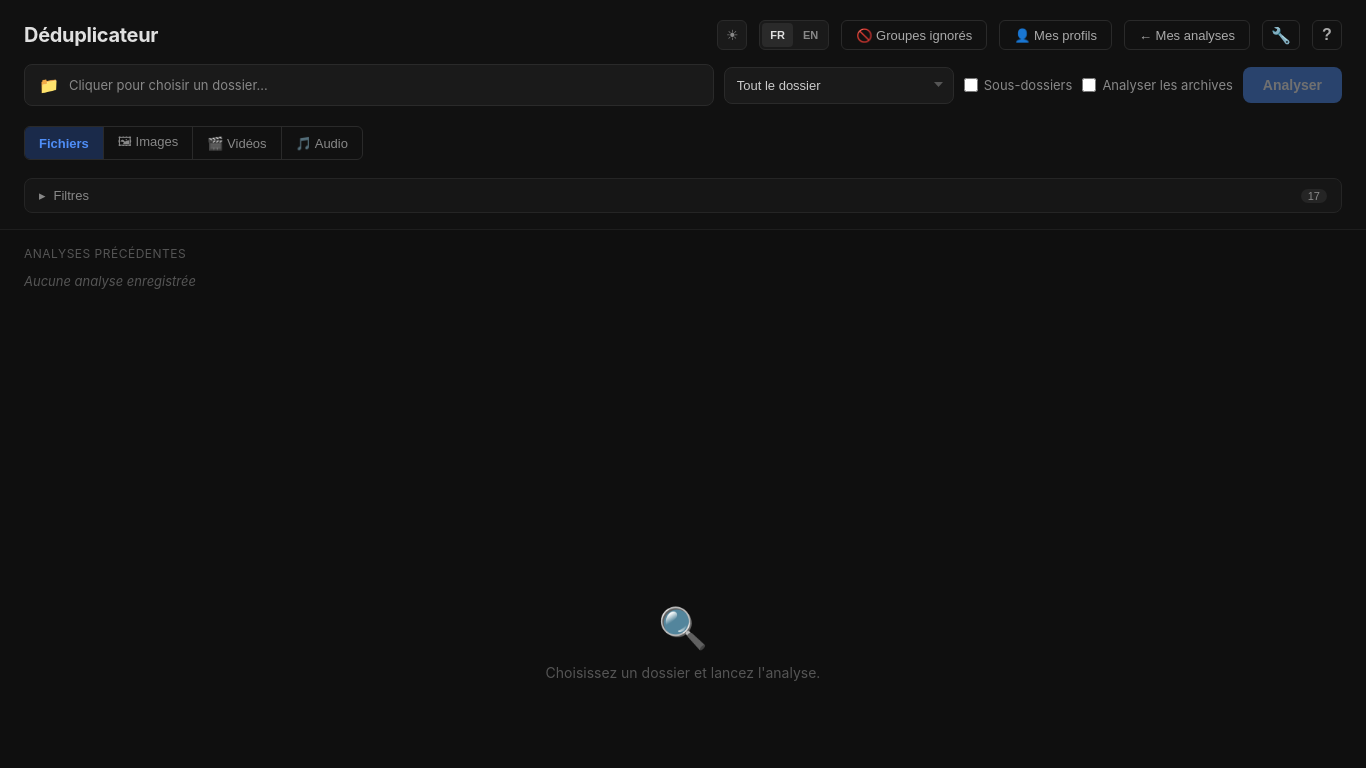
Test case: E - pagination › affiche le bouton 'Afficher plus' quand has_more est true
Click the text "Cliquer pour choisir un dossier…" at [168, 85], box [69,77,268,93]
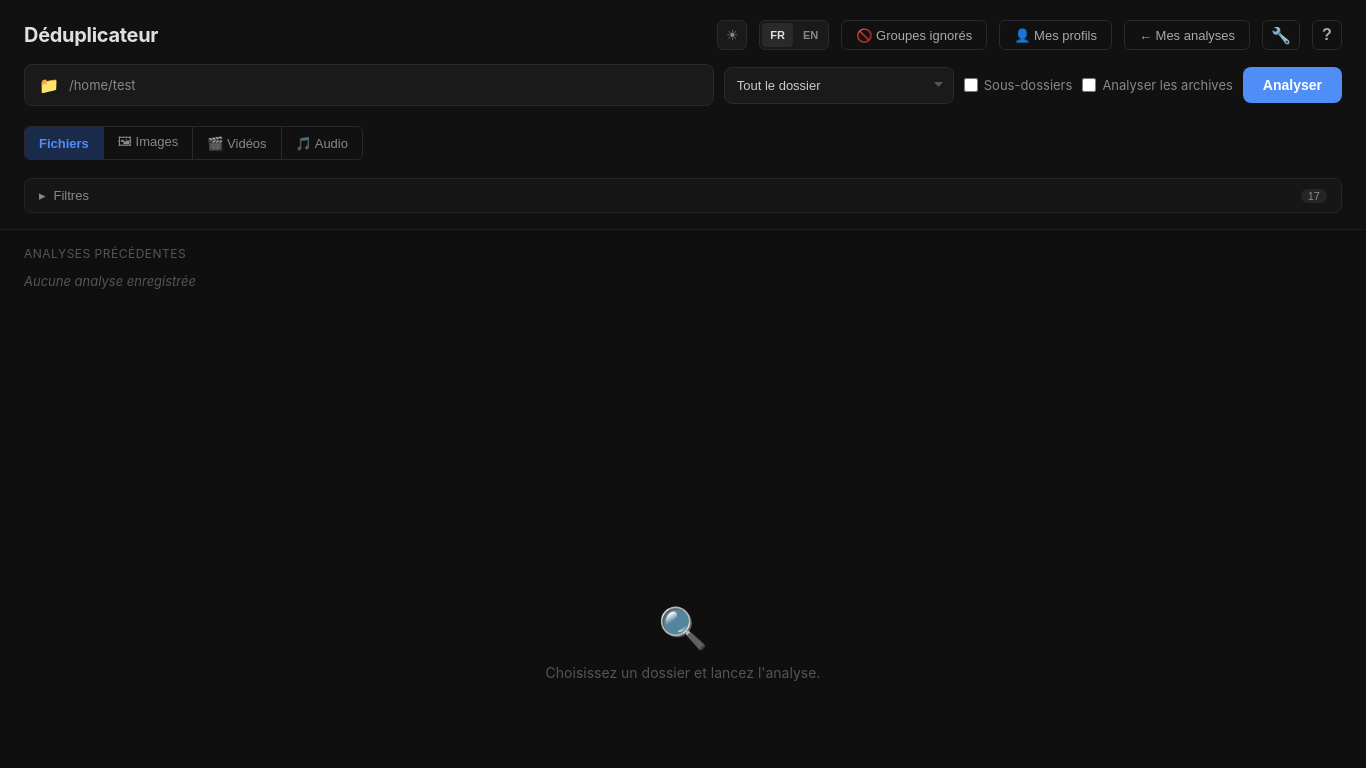
Result: the text "/home/test" is shown at [69,77,136,93]
Click the button "Analyser" at [1292, 85], box [1243,67,1342,103]
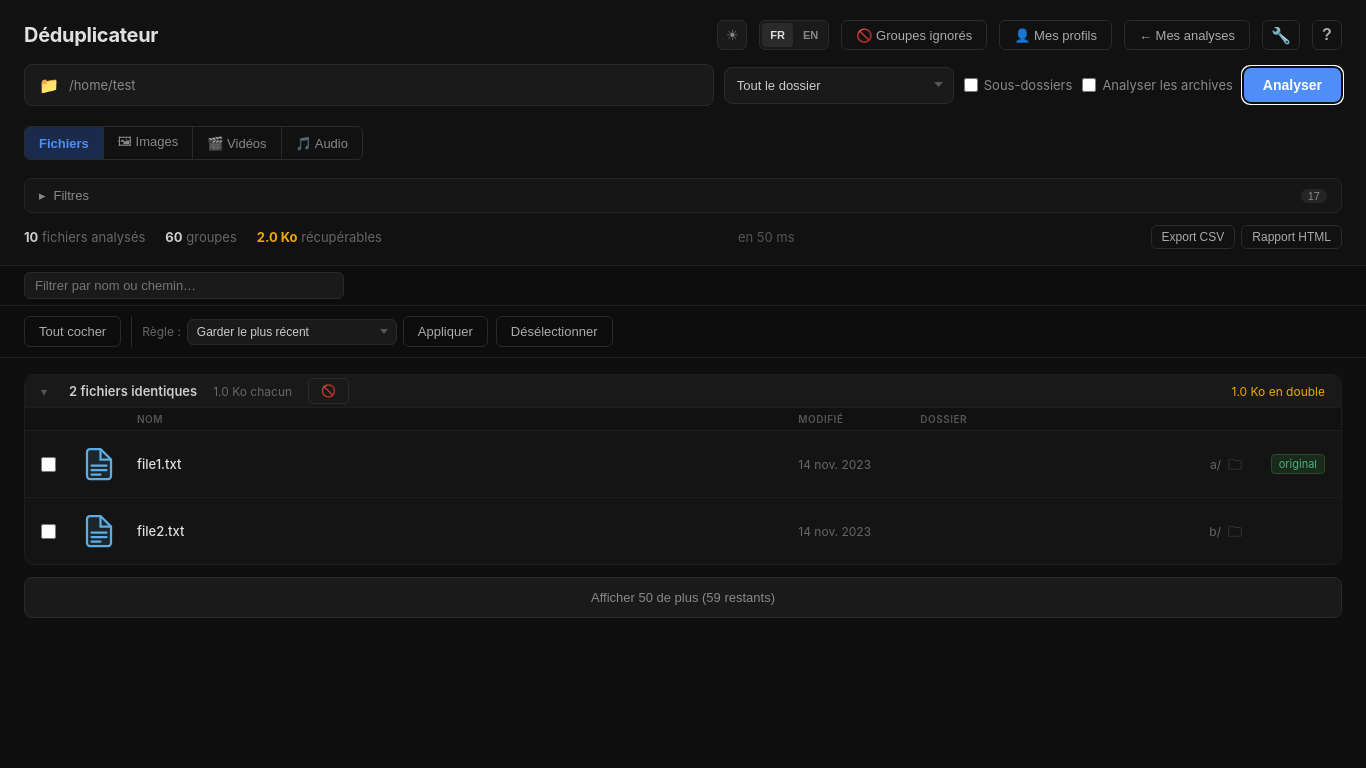
Result: the button "Afficher 50 de plus (59 restants)" is shown at [24,577,1342,618]
